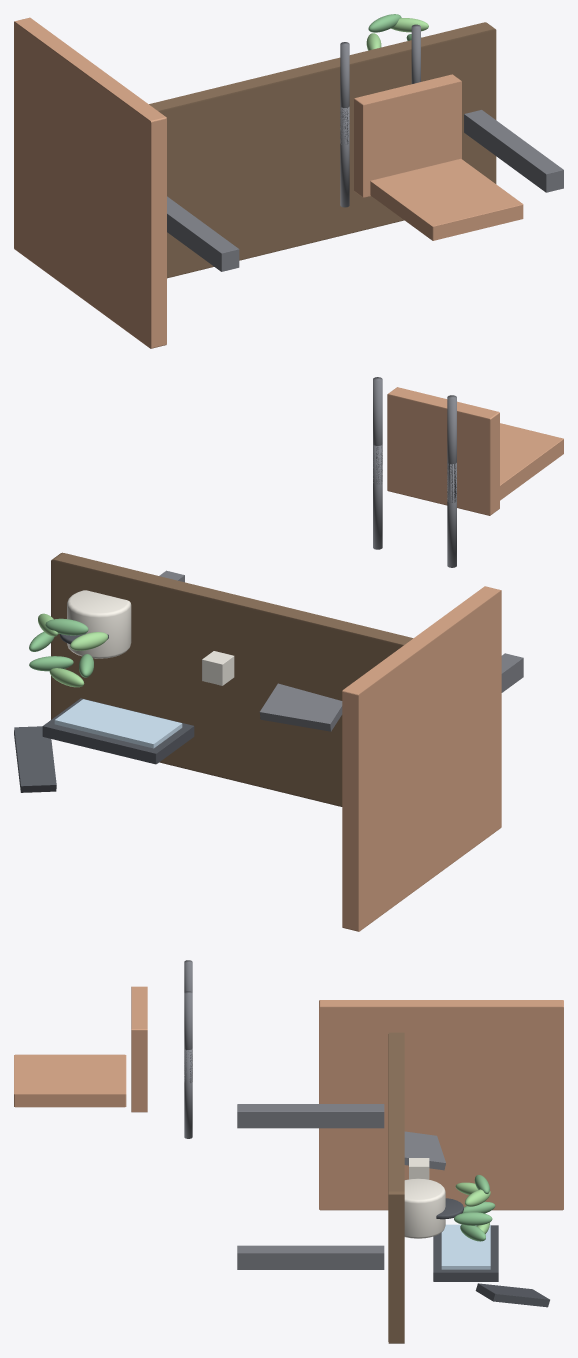
The model's file is workstation.glb.
The picture shows the model from 3 angles, top to bottom: view 1: azimuth 30°, elevation 25°; view 2: azimuth 150°, elevation 25°; view 3: azimuth 270°, elevation 25°; orthographic projection. The views are drawn at different scales.
Parts seen in each view (by area): view 1: top, partition, seat, back, leg_0.82, leg_-0.82, leg_0.18_back, leg_0.18_front, leg_-0.18_front; view 2: top, partition, seat, screen, pot, back, monitor, laptop, task_light, leg_-0.18_back, leg_0.18_front, leg_0.18_back (+3 smaller); view 3: partition, back, top, leg_-0.82, leg_0.82, pot, seat, screen, monitor, laptop, task_light, leg_-0.18_back (+1 smaller).
Boxes of the visible parts, box(x1,y1,x2,y2) form: top: box(149, 22, 496, 278); partition: box(14, 17, 166, 348); seat: box(354, 74, 461, 197); back: box(370, 158, 523, 240); leg_0.82: box(464, 109, 563, 192); leg_-0.82: box(167, 196, 239, 271); leg_0.18_back: box(340, 106, 349, 207); leg_0.18_front: box(340, 42, 349, 144); leg_-0.18_front: box(411, 24, 420, 83); top: box(51, 552, 413, 806); partition: box(342, 586, 501, 931); seat: box(387, 387, 499, 515); screen: box(54, 699, 182, 748); pot: box(67, 590, 131, 658); back: box(500, 423, 563, 500); monitor: box(42, 698, 194, 764); laptop: box(259, 683, 342, 731); task_light: box(14, 726, 56, 792); leg_-0.18_back: box(373, 444, 382, 549); leg_0.18_front: box(447, 395, 456, 502); leg_0.18_back: box(447, 462, 456, 567); partition: box(319, 1000, 563, 1210); back: box(14, 1054, 126, 1107); top: box(388, 1032, 404, 1343); leg_-0.82: box(237, 1104, 384, 1128); leg_0.82: box(237, 1245, 384, 1269); pot: box(404, 1178, 445, 1238); seat: box(131, 986, 147, 1112); screen: box(441, 1224, 490, 1269); monitor: box(433, 1225, 498, 1281); laptop: box(404, 1131, 445, 1170); task_light: box(475, 1283, 549, 1307); leg_-0.18_back: box(184, 1049, 192, 1138).
Size of the model in its own units: 1.94 by 1.59 by 2.7.
